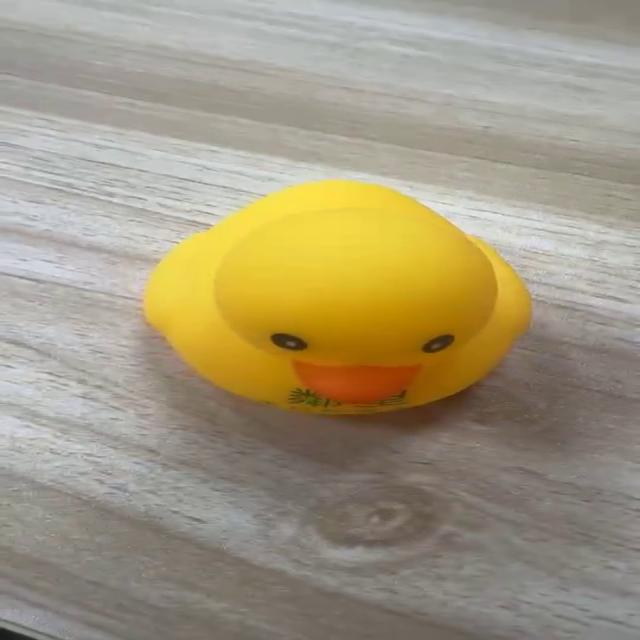yellow_duck: (140, 177, 533, 417)
